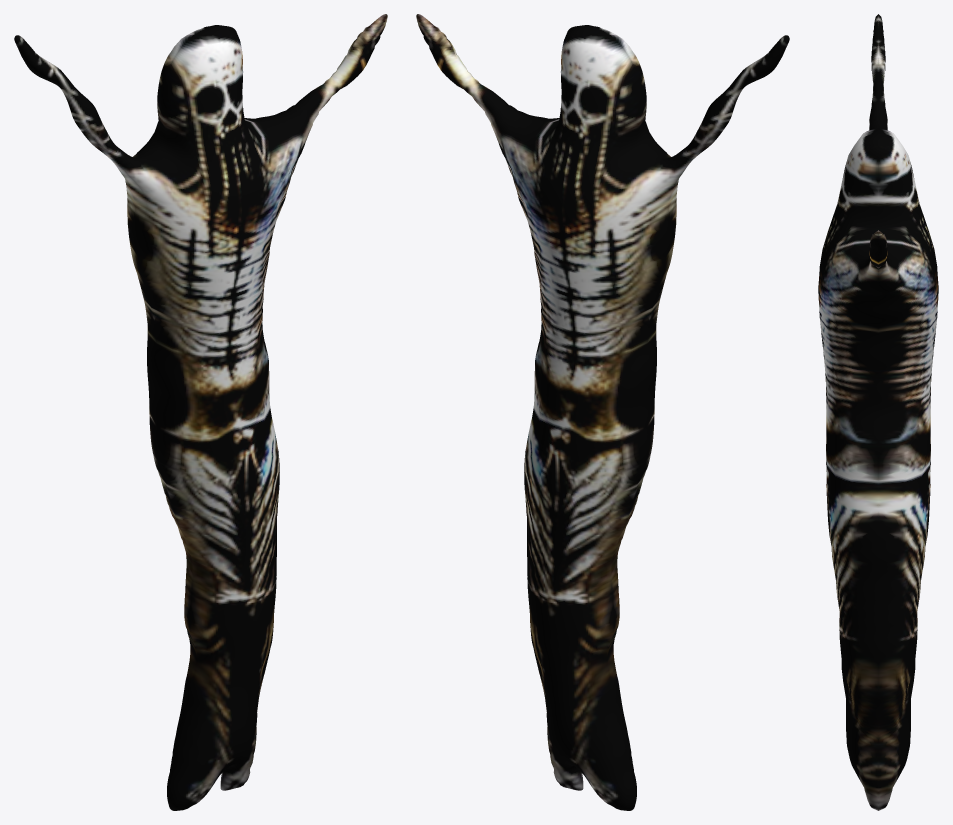
File: deadbody1.glb
3 views of the same model, side by side, from view 1: azimuth 30°, elevation 25°; view 2: azimuth 150°, elevation 25°; view 3: azimuth 270°, elevation 25° (orthographic). The views are drawn at different scales.
Bounding box in the file's own units: 2.73 × 5.69 × 0.8747.
1 material, 1 textured.
